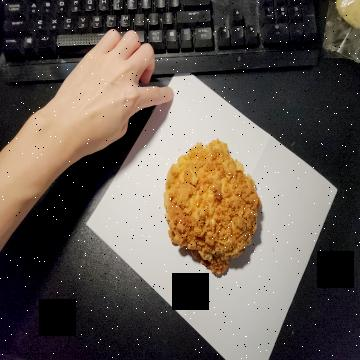soboru_bread: (165, 138, 262, 277)
